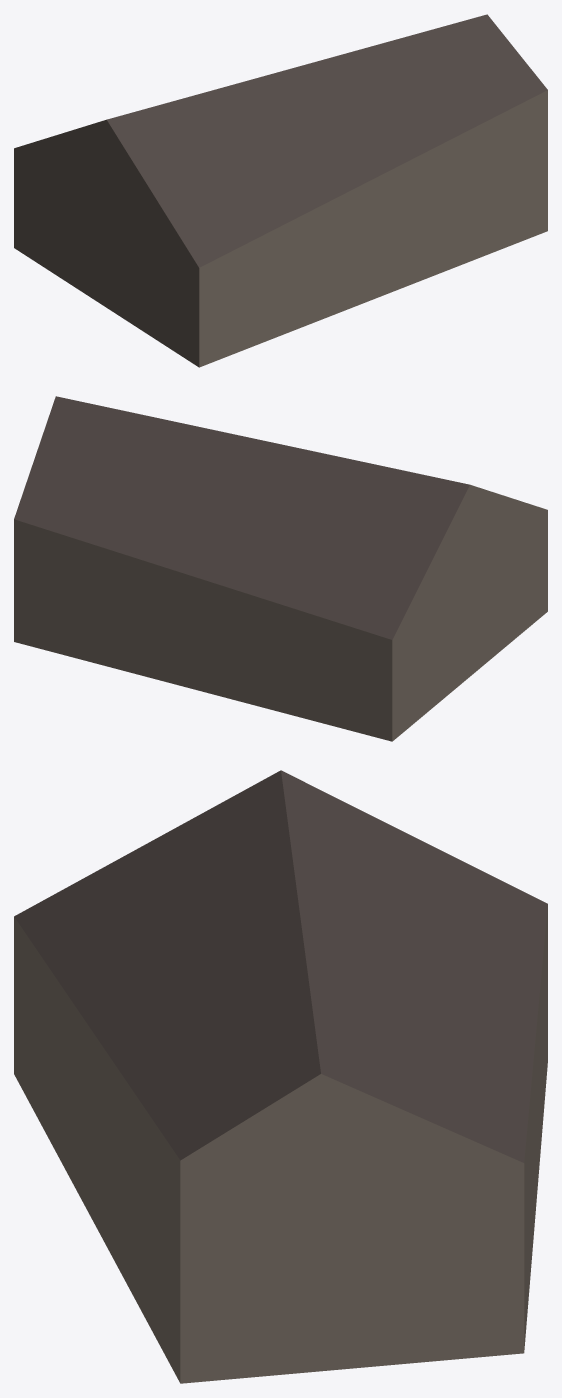
3 views of the same model, one above another, from view 1: azimuth 30°, elevation 25°; view 2: azimuth 150°, elevation 25°; view 3: azimuth 270°, elevation 25° (orthographic). The views are drawn at different scales.
Visible parts, largest first — view 1: HP-w408450767; view 2: HP-w408450767; view 3: HP-w408450767.
Boxes of the visible parts, left/top/right/bottom form: HP-w408450767: left=14, top=14, right=547, bottom=367; HP-w408450767: left=14, top=396, right=547, bottom=741; HP-w408450767: left=14, top=770, right=547, bottom=1383.
Bounding box in the file's own units: 13.16 × 5.66 × 9.21.
